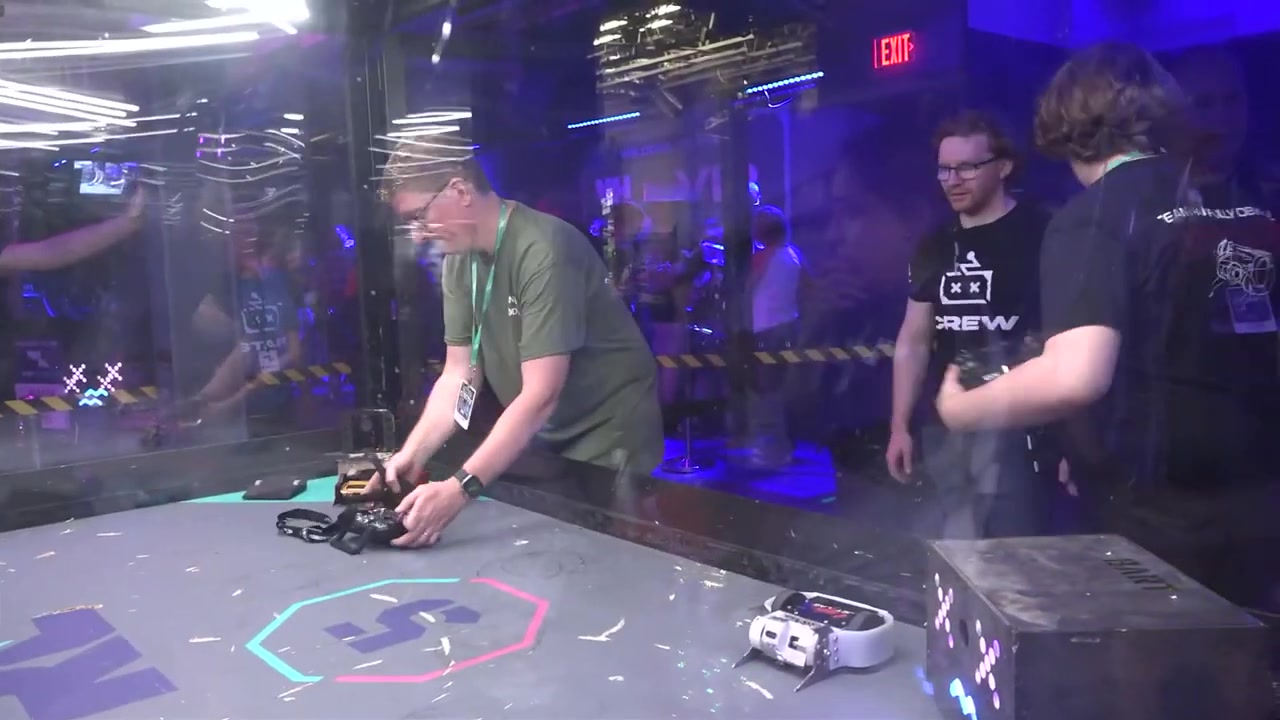combatbot: (730, 586, 896, 696)
housebot: (920, 532, 1260, 714)
minibot: (241, 466, 311, 503)
